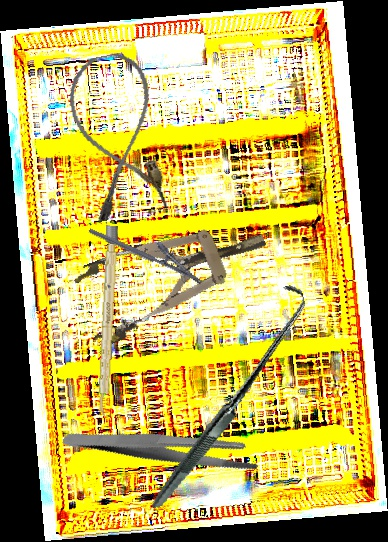Cannula: (62, 48, 172, 224)
Dressing Forceps: (61, 382, 264, 513)
Hook Surgical: (108, 282, 345, 509)
Needle Holder: (88, 212, 210, 286)
Scalpel Handle: (96, 225, 119, 417)
Speculum: (68, 201, 280, 350)
